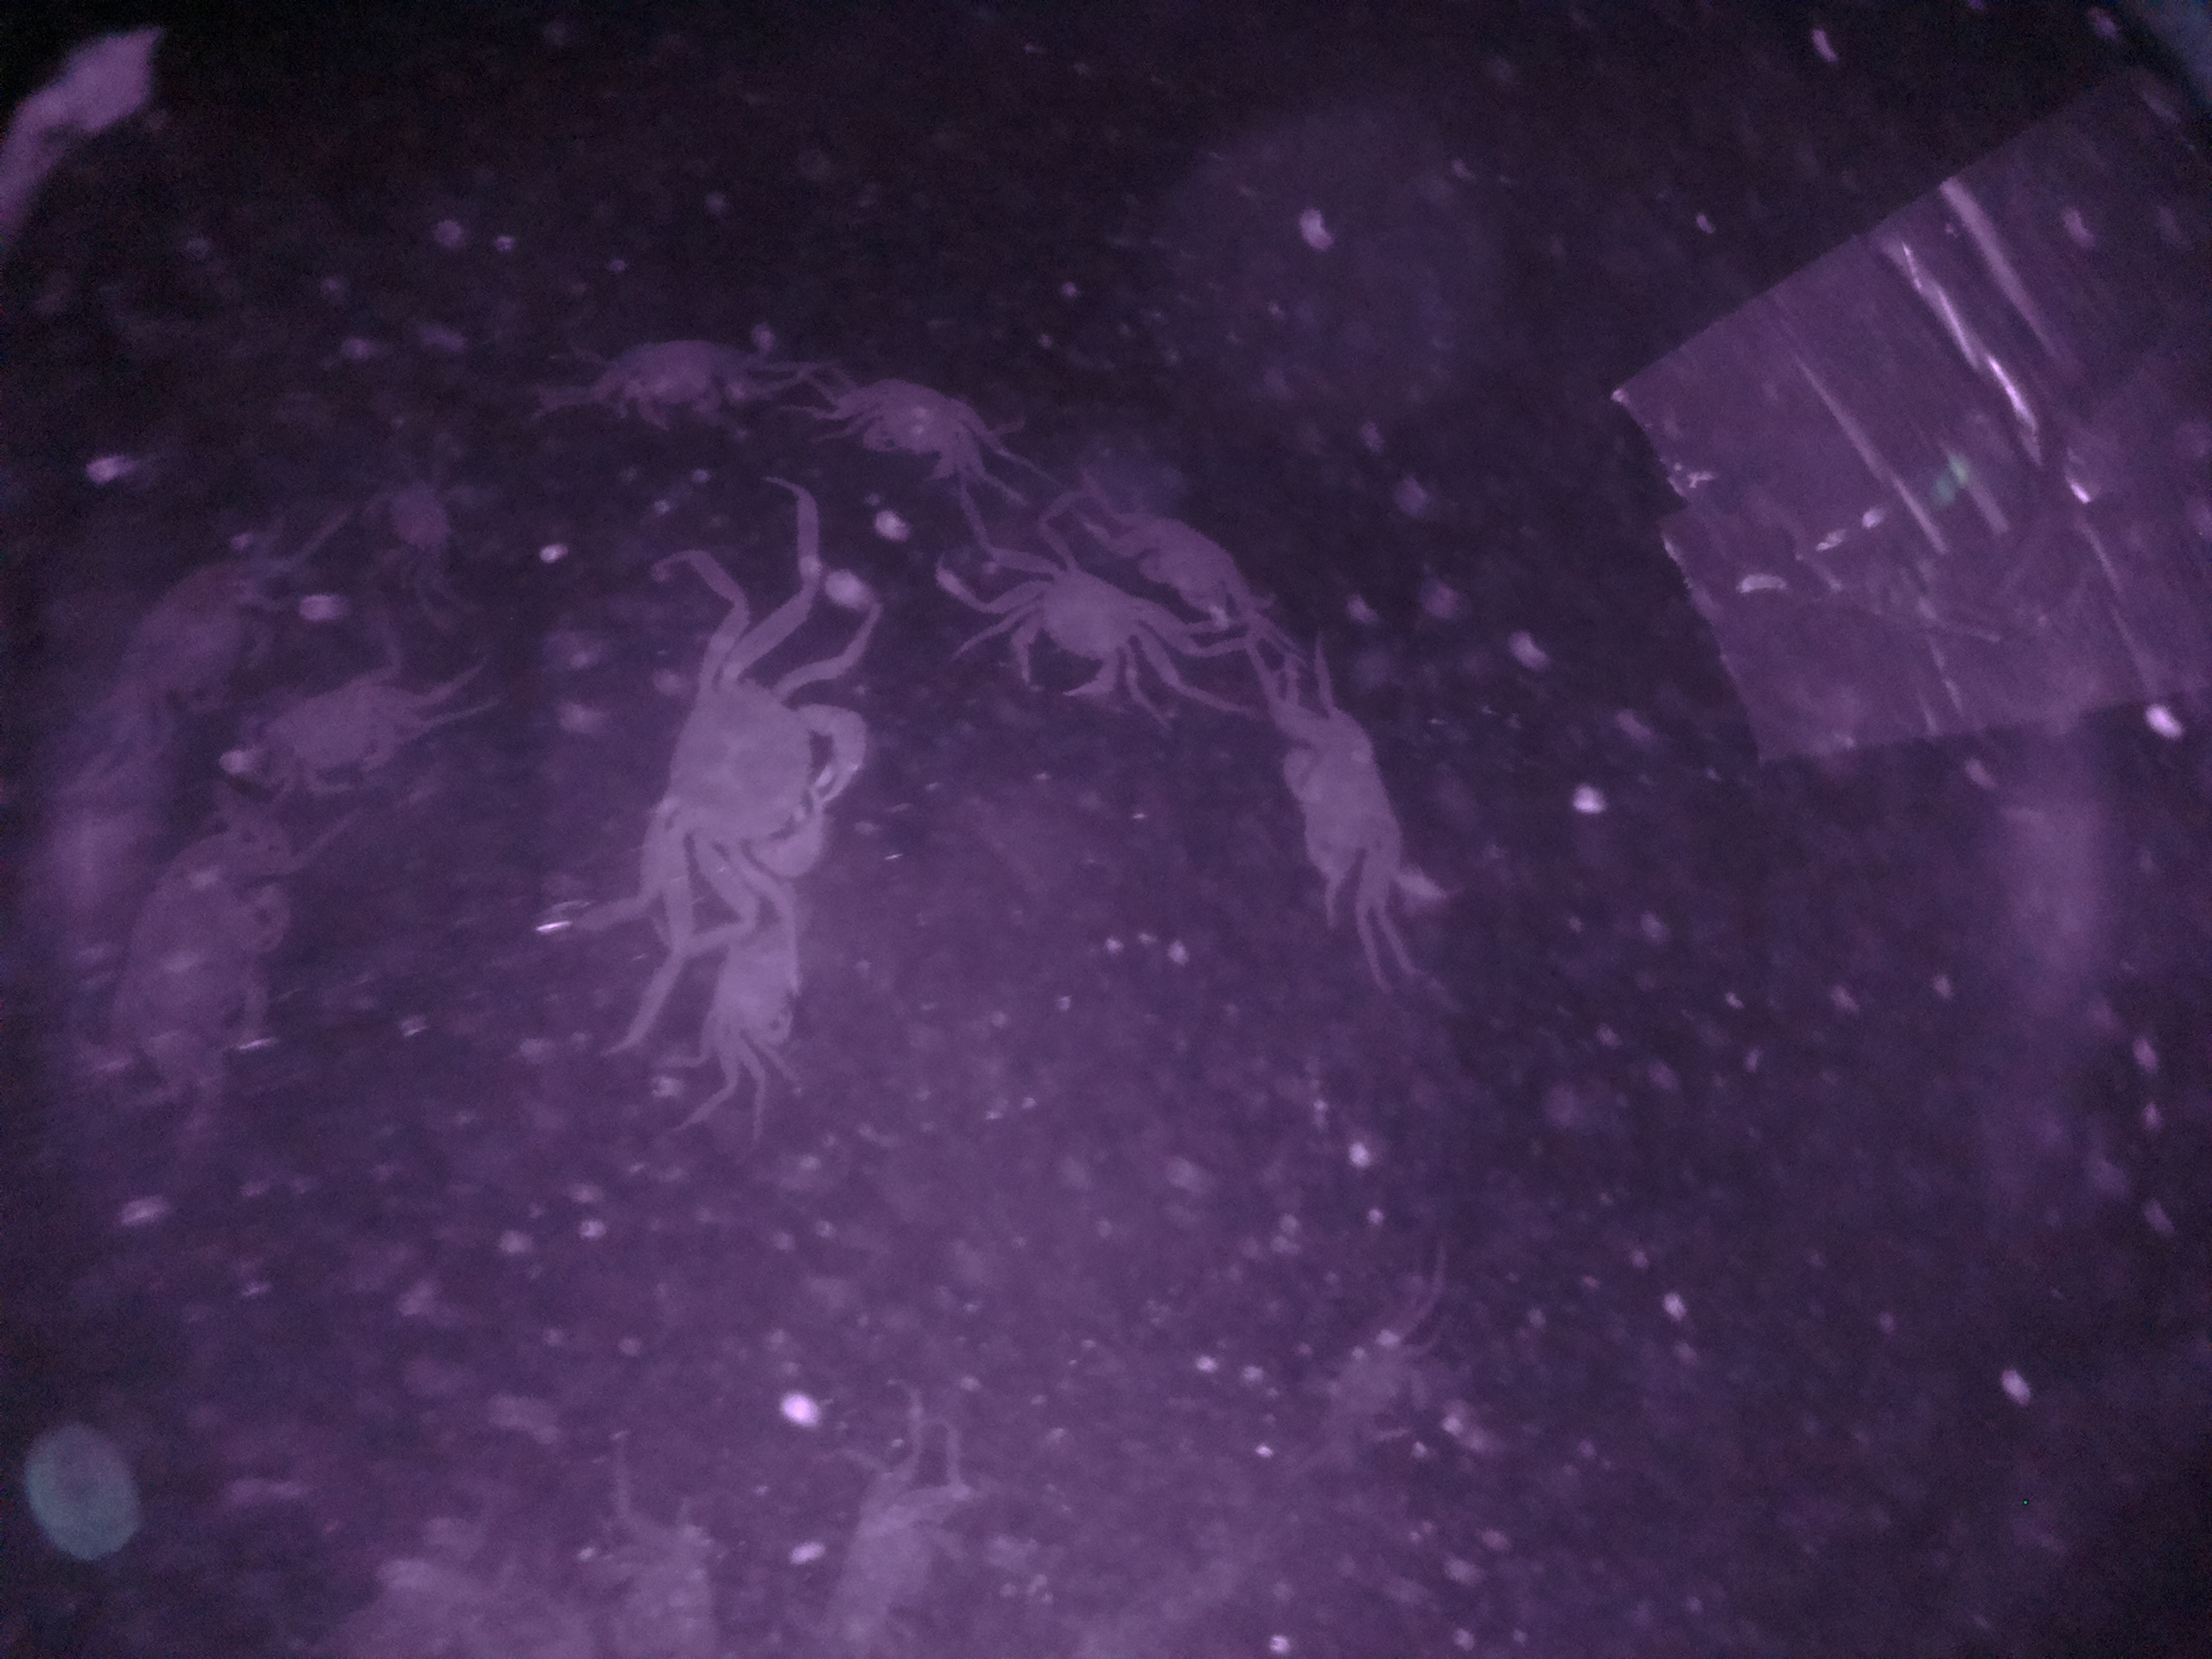Crab: (632, 647, 888, 915), (968, 554, 1170, 716), (1268, 708, 1425, 904), (827, 368, 996, 484)
